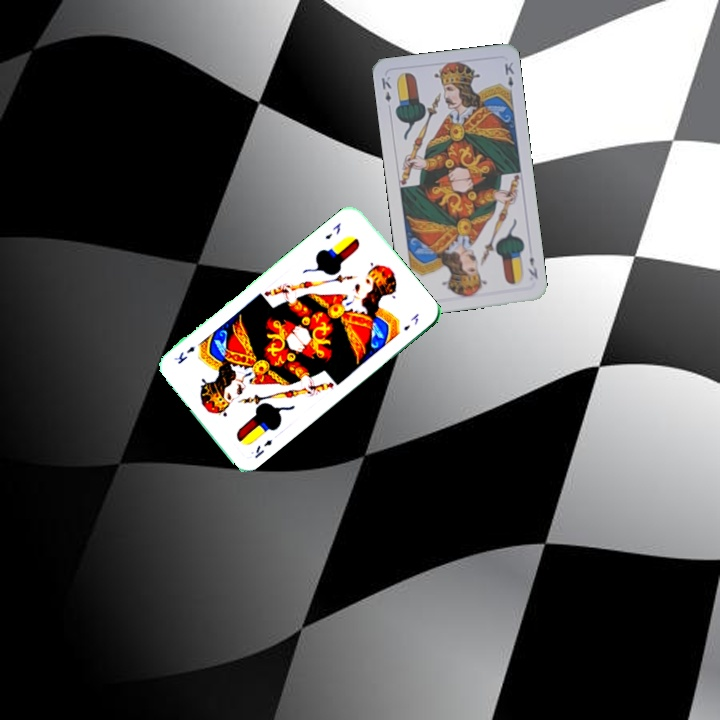EK: (250, 435, 275, 461), (377, 72, 394, 105), (321, 218, 344, 242), (524, 253, 540, 281)
